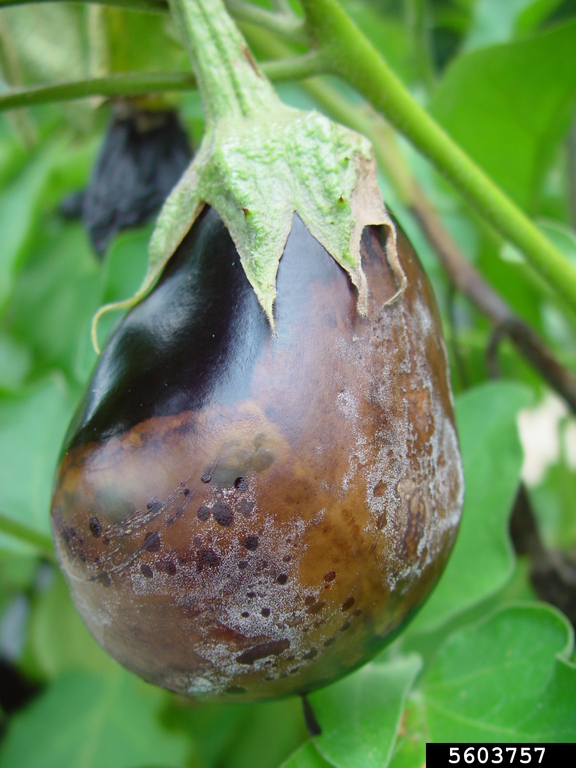Eggplant_PhytophthoraBlight: (87, 134, 480, 694)
